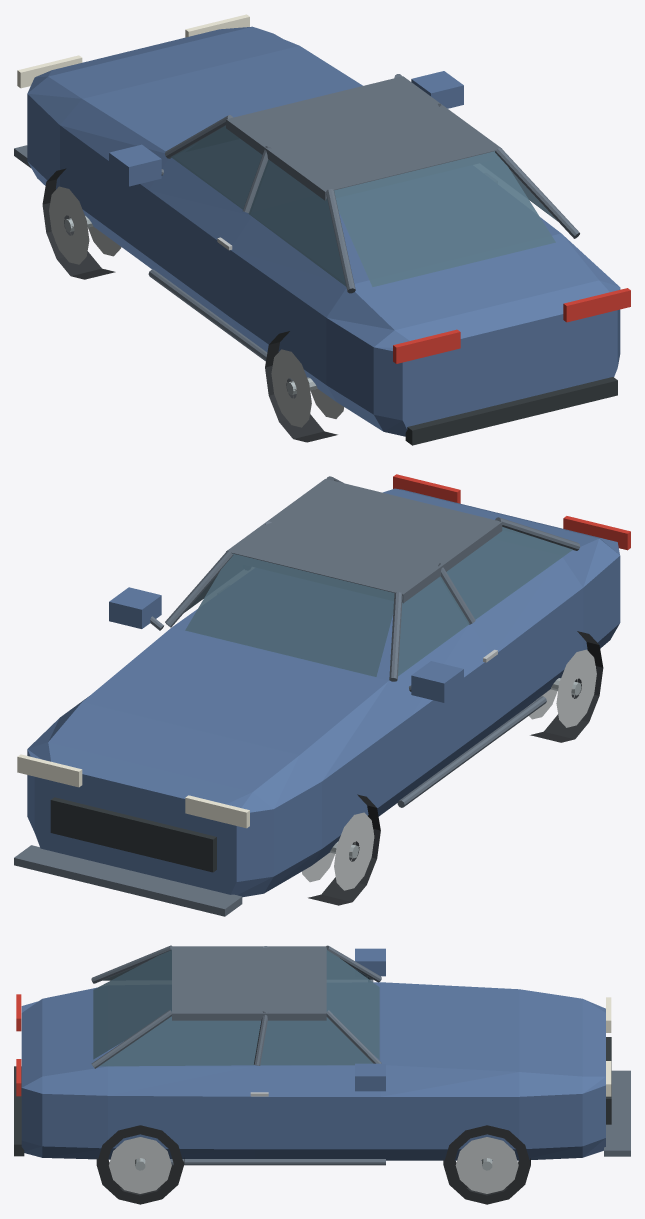
The model's file is cedar_sedan.glb.
3 views of the same model, one above another, from view 1: azimuth 30°, elevation 25°; view 2: azimuth 150°, elevation 25°; view 3: azimuth 270°, elevation 25° (orthographic). The views are drawn at different scales.
Visible parts, largest first — view 1: Body_Shell, Rear_Windshield, Roof, Rear_Quarter_Glass_-1, Diffuser, Door_Glass_-1, Rim_RL, Rim_FL, Mirror_Housing_-1, Tire_RL, Tire_FL, Taillight_1 (+8 smaller); view 2: Body_Shell, Roof, Windshield, Grille, Rear_Quarter_Glass_-1, Splitter, Door_Glass_-1, Rim_FL, Rim_RL, Mirror_Housing_-1, Mirror_Housing_1, Sill_-1 (+9 smaller); view 3: Body_Shell, Roof, Rear_Quarter_Glass_1, Rear_Windshield, Door_Glass_1, Windshield, Rim_FR, Rim_RR, Tire_FR, Tire_RR, Splitter, Sill_1 (+8 smaller).
Part boxes in pixels (<box>): Body_Shell: <box>27,26,620,436</box>; Rear_Windshield: <box>334,151,555,286</box>; Roof: <box>226,76,501,200</box>; Rear_Quarter_Glass_-1: <box>248,159,346,286</box>; Diffuser: <box>405,377,617,445</box>; Door_Glass_-1: <box>171,125,262,209</box>; Rim_RL: <box>271,349,344,427</box>; Rim_FL: <box>49,186,121,264</box>; Mirror_Housing_-1: <box>109,144,161,186</box>; Tire_RL: <box>265,331,337,442</box>; Tire_FL: <box>42,168,115,279</box>; Taillight_1: <box>563,288,630,322</box>; Body_Shell: <box>27,488,620,897</box>; Roof: <box>226,479,502,603</box>; Windshield: <box>185,553,394,676</box>; Grille: <box>50,797,216,872</box>; Rear_Quarter_Glass_-1: <box>446,527,572,619</box>; Splitter: <box>14,845,242,916</box>; Door_Glass_-1: <box>398,576,469,676</box>; Rim_FL: <box>302,812,374,890</box>; Rim_RL: <box>529,649,596,727</box>; Mirror_Housing_-1: <box>411,661,463,702</box>; Mirror_Housing_1: <box>109,587,161,628</box>; Sill_-1: <box>397,696,546,807</box>; Body_Shell: <box>21,982,605,1160</box>; Roof: <box>172,946,326,1020</box>; Rear_Quarter_Glass_1: <box>99,1016,260,1066</box>; Rear_Windshield: <box>93,949,171,1059</box>; Door_Glass_1: <box>260,1017,372,1065</box>; Windshield: <box>326,949,379,1059</box>; Rim_FR: <box>455,1137,518,1193</box>; Rim_RR: <box>109,1137,171,1193</box>; Tire_FR: <box>443,1125,530,1204</box>; Tire_RR: <box>96,1125,184,1204</box>; Splitter: <box>604,1070,630,1156</box>; Sill_1: <box>170,1159,385,1165</box>.
Size of the model in its own units: 2.34 by 1.48 by 4.79.
